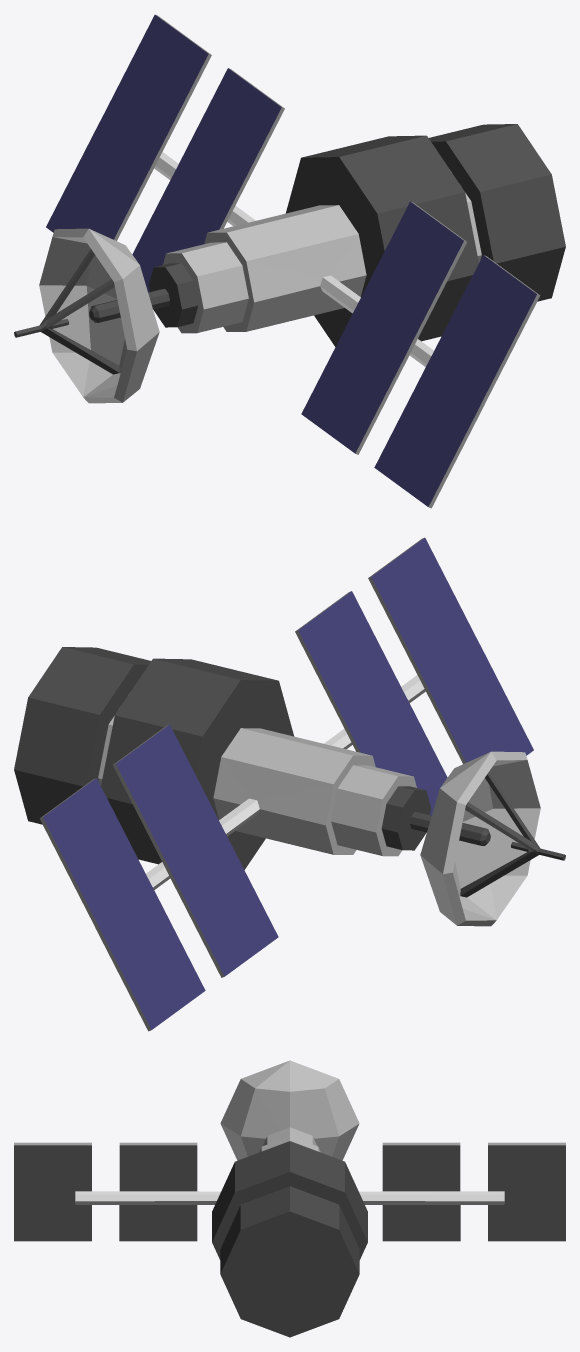
Rendered from satelite.fbx.
The picture shows the model from 3 angles, top to bottom: view 1: azimuth 30°, elevation 25°; view 2: azimuth 150°, elevation 25°; view 3: azimuth 270°, elevation 25°; orthographic projection. The views are drawn at different scales.
Visible parts, largest first — view 1: Circle; view 2: Circle; view 3: Circle.
Part boxes in pixels (x1,y1,x2,y2): Circle: [14, 14, 565, 508]; Circle: [14, 537, 565, 1031]; Circle: [14, 1060, 565, 1337].
Bounding box in the file's own units: 601 × 225 × 793.
